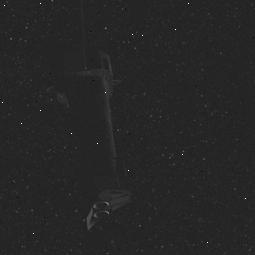xmm_newton: (29, 36, 158, 217)
